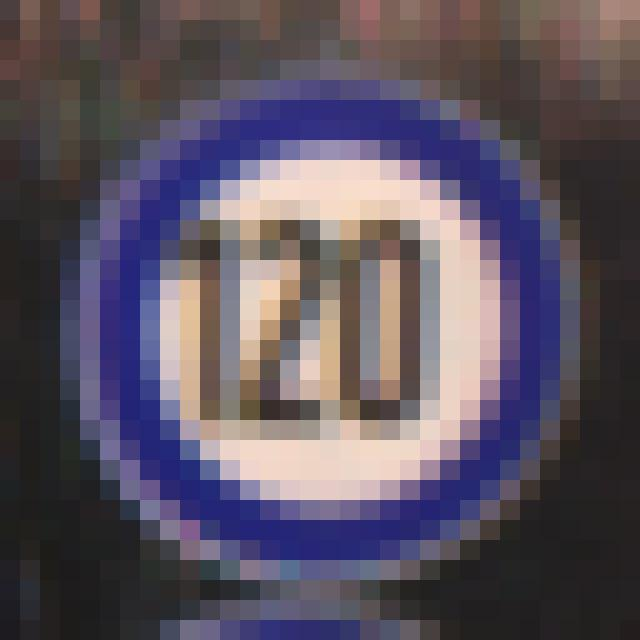SPEED LIMIT 120: (72, 77, 576, 578)
